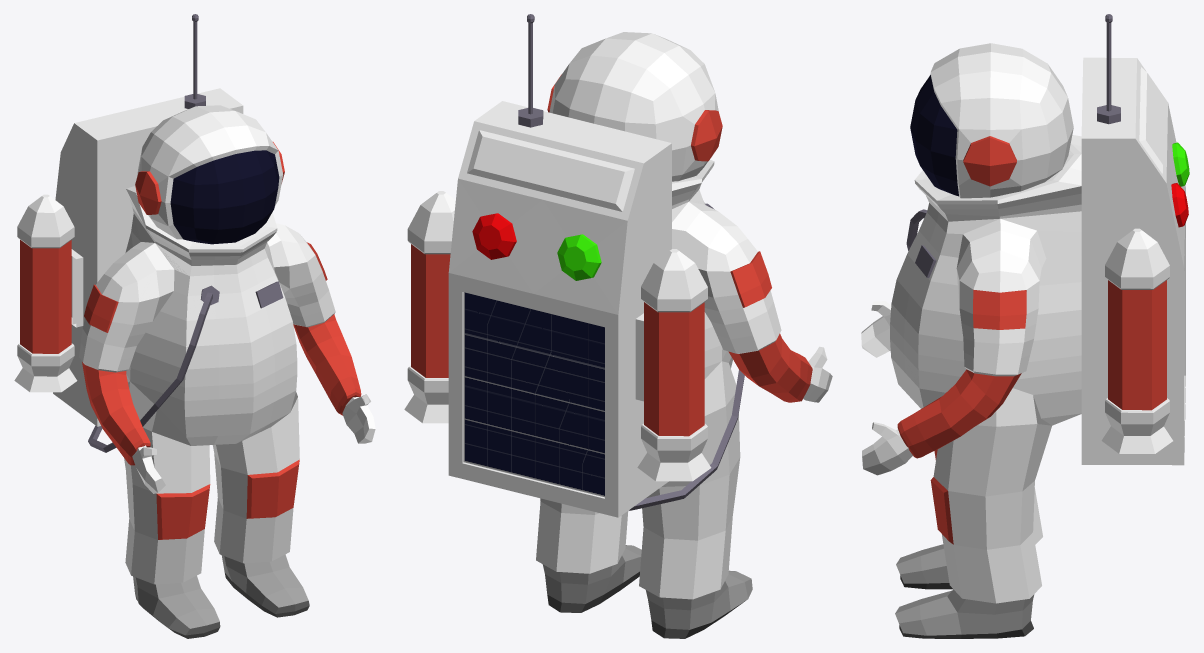
Rendered from человек.fbx.
3 renders of one model, left to right at view 1: azimuth 30°, elevation 25°; view 2: azimuth 150°, elevation 25°; view 3: azimuth 270°, elevation 25°, orthographic. The views are drawn at different scales.
Visible parts, largest first — view 1: человек; view 2: человек; view 3: человек.
Boxes of the visible parts, x1=… form: человек: x1=14, y1=14, x2=375, y2=638; человек: x1=404, y1=14, x2=832, y2=638; человек: x1=861, y1=14, x2=1189, y2=638.
Size of the model in its own units: 496 by 1015 by 496.
